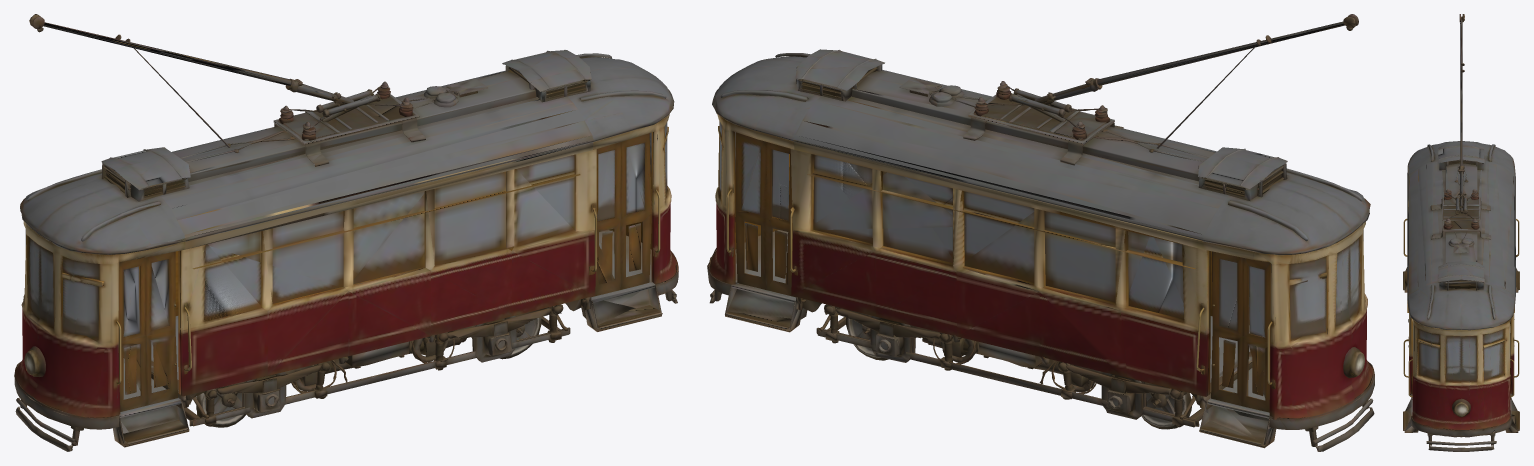
The model's file is tram_old.glb.
3 renders of one model, left to right at view 1: azimuth 30°, elevation 25°; view 2: azimuth 150°, elevation 25°; view 3: azimuth 270°, elevation 25°, orthographic. The views are drawn at different scales.
Bounding box in the file's own units: 0.9512 × 0.6221 × 0.2495.
Materials: 1 (1 with a texture image).
